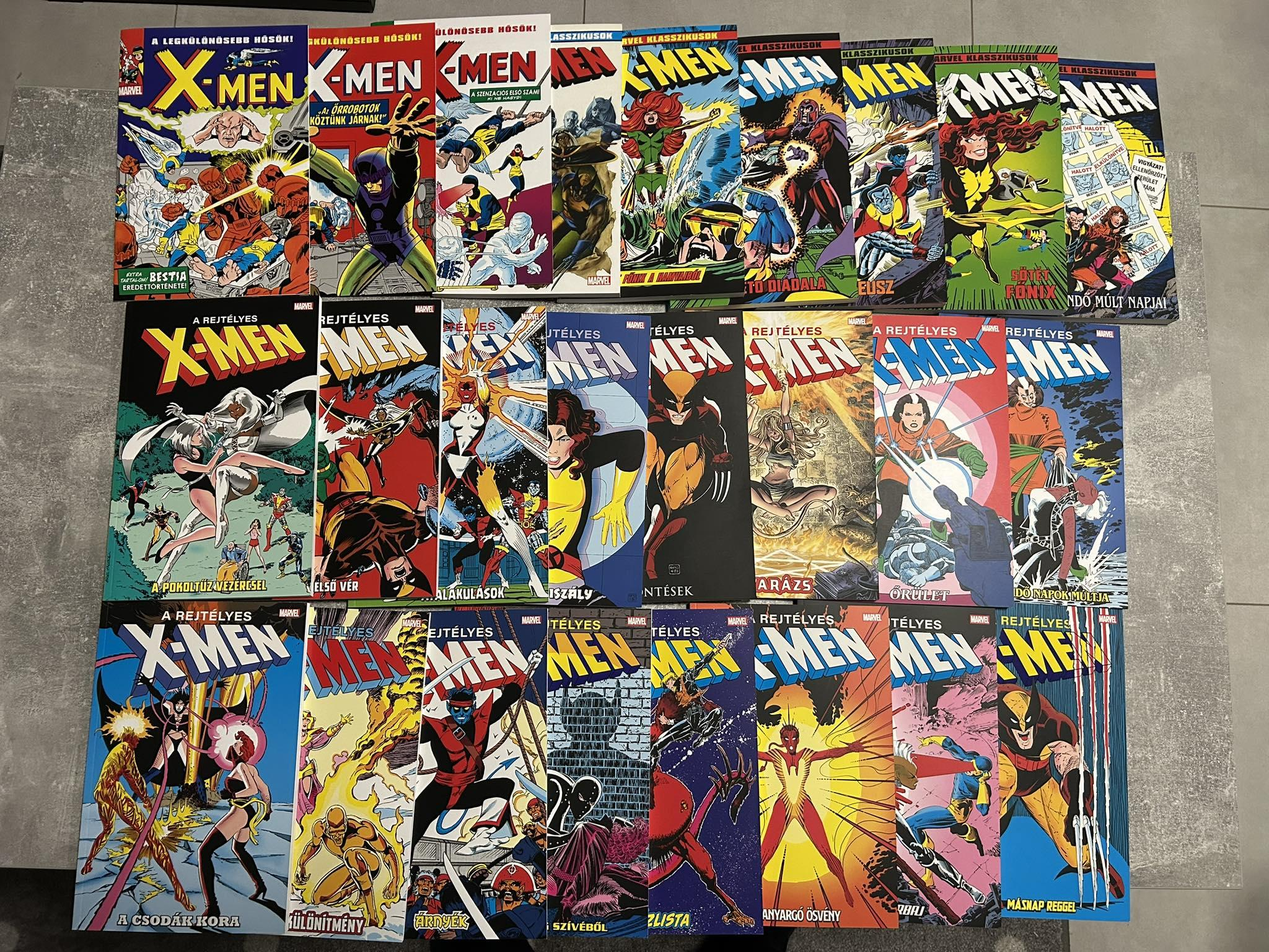comic: (72, 590, 306, 943), (103, 295, 318, 604), (114, 25, 309, 299), (283, 602, 430, 943), (754, 599, 899, 932), (406, 606, 548, 939), (994, 601, 1131, 924), (872, 312, 1012, 609), (639, 606, 762, 937), (743, 308, 879, 604), (313, 297, 442, 602), (888, 602, 1007, 930), (934, 41, 1071, 322), (533, 310, 656, 609), (1005, 315, 1129, 611), (544, 608, 650, 937), (309, 22, 436, 296), (621, 25, 745, 298), (438, 305, 551, 604), (643, 311, 757, 604), (434, 14, 553, 288), (1059, 56, 1178, 325), (737, 32, 854, 304), (841, 37, 949, 310), (550, 24, 623, 295)
